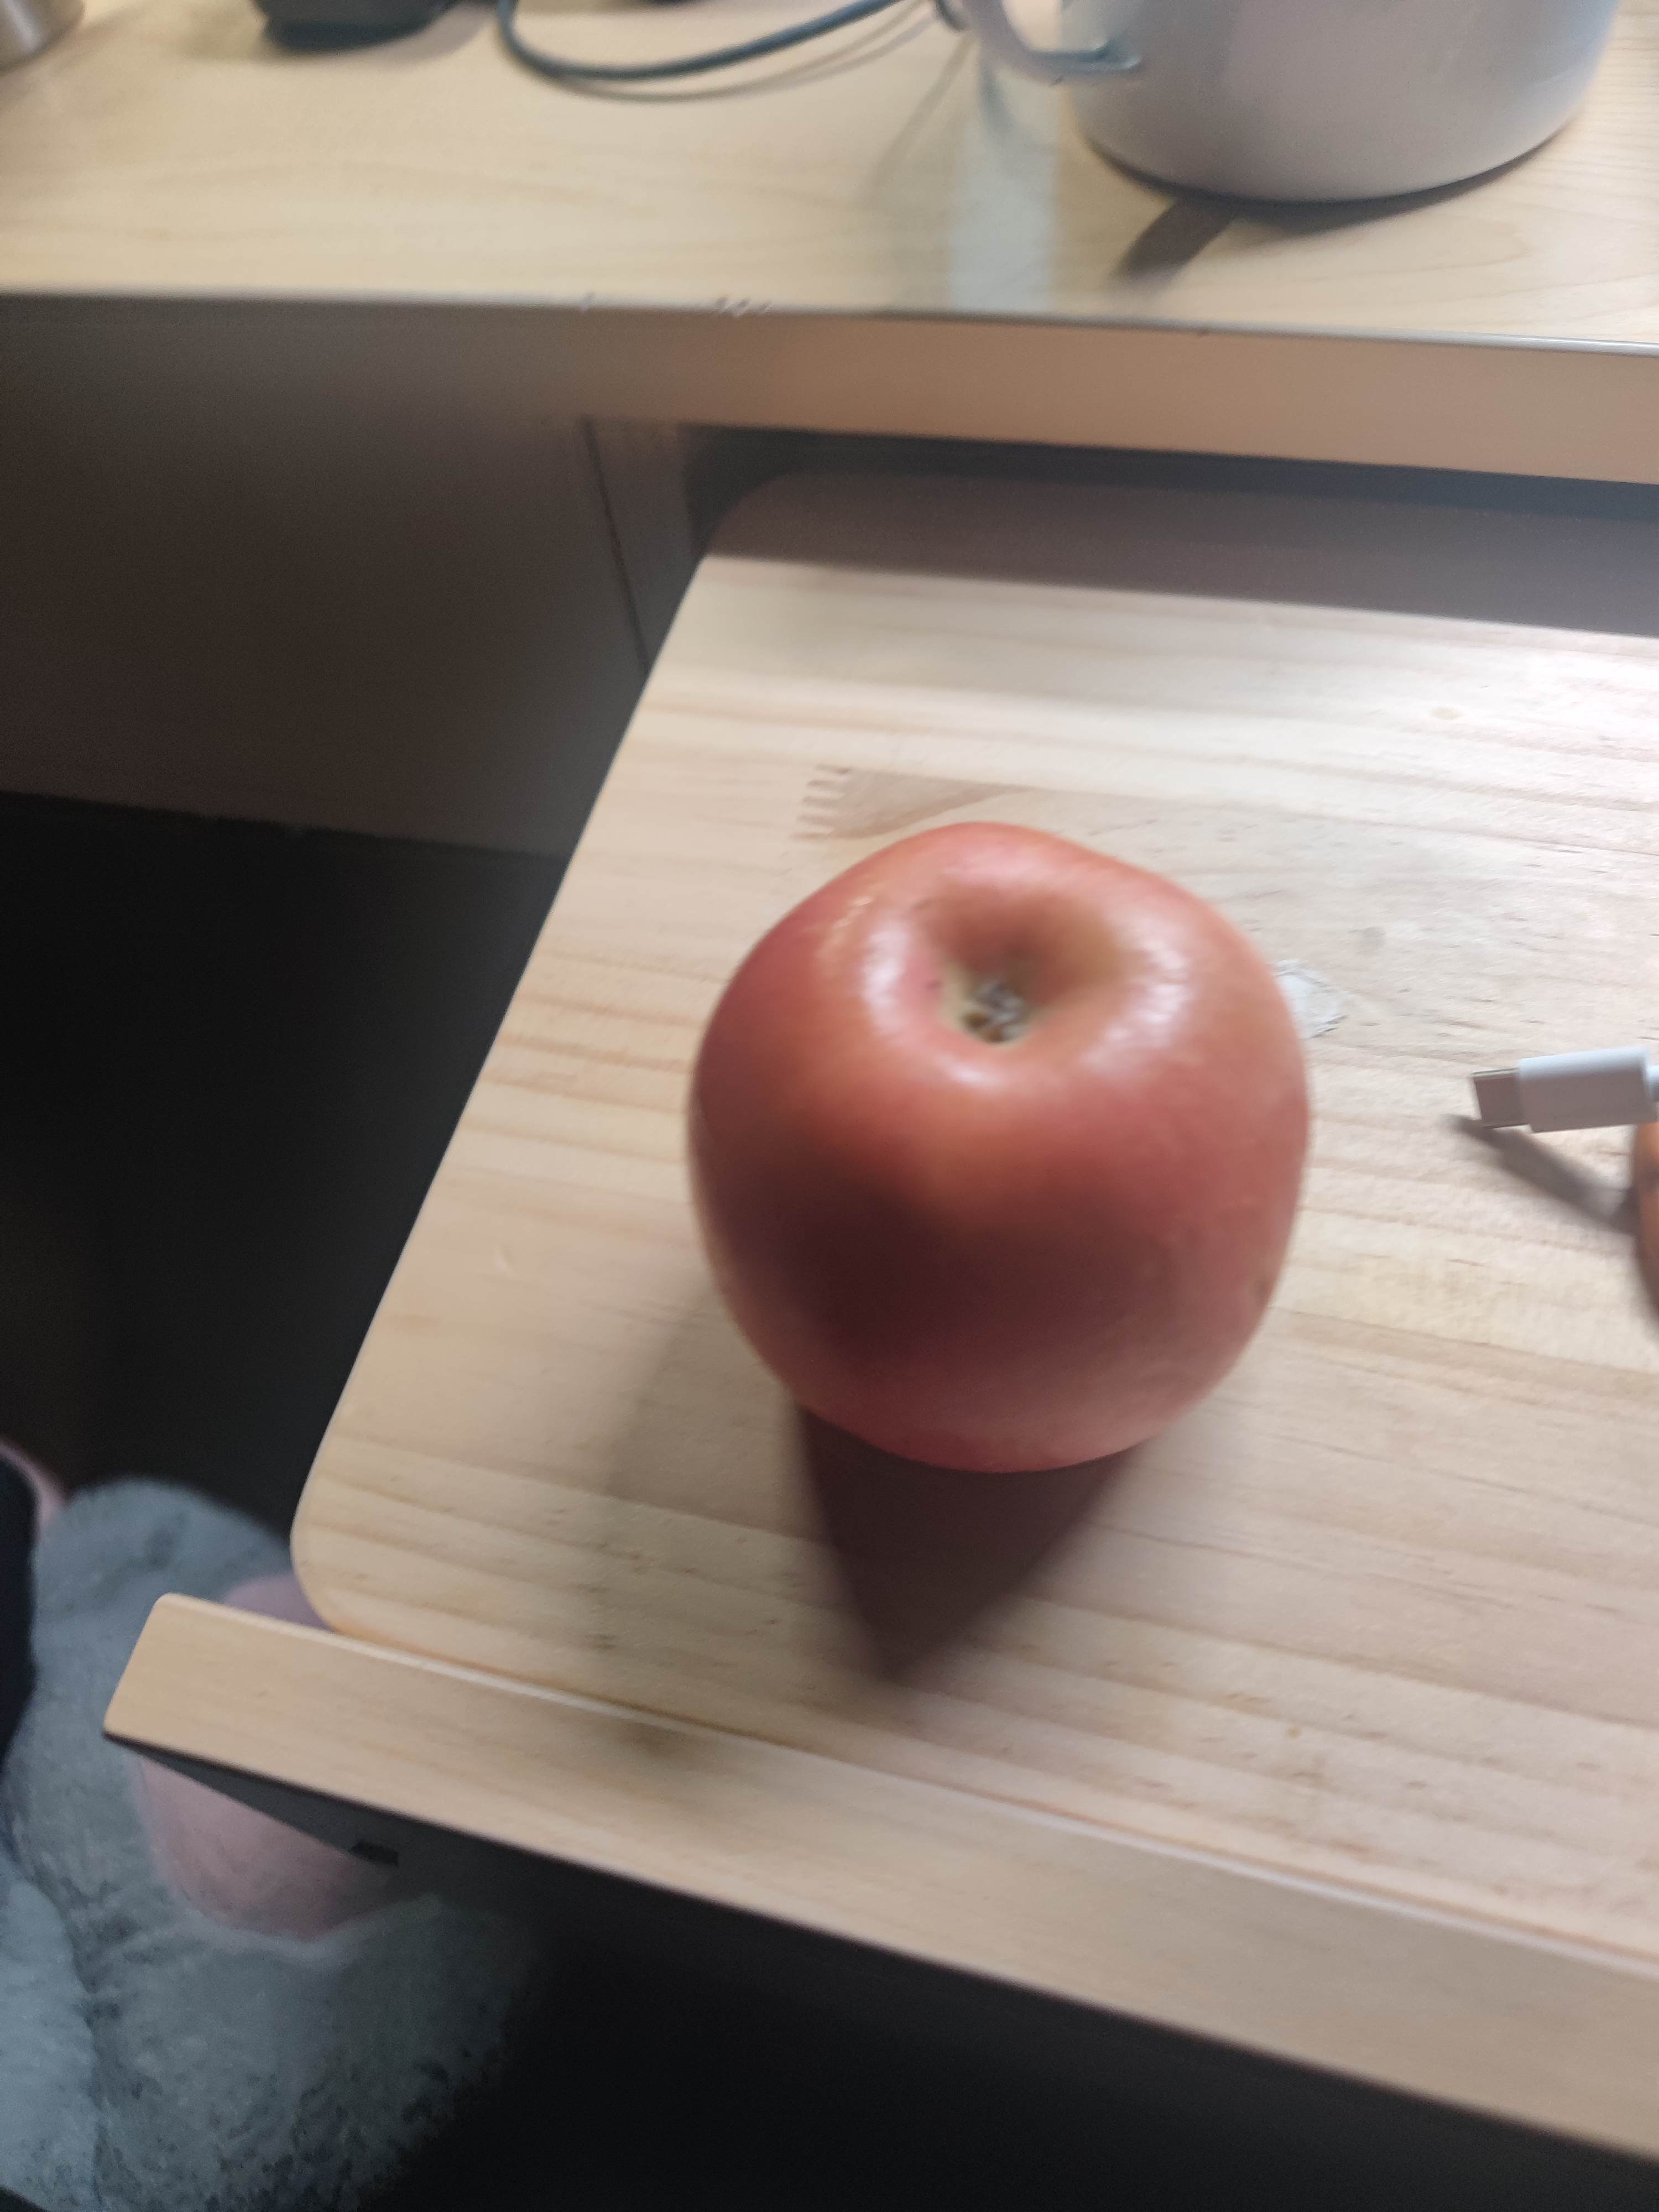apple: (685, 824, 1321, 1484)
